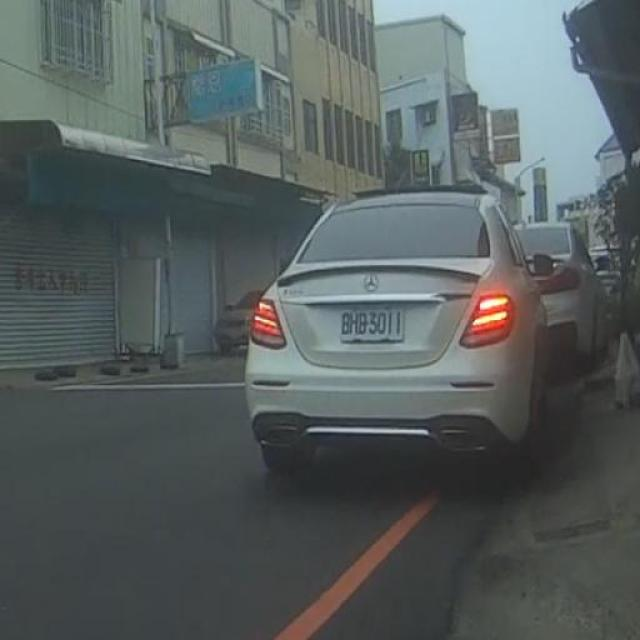illegalparking: (245, 184, 608, 472)
